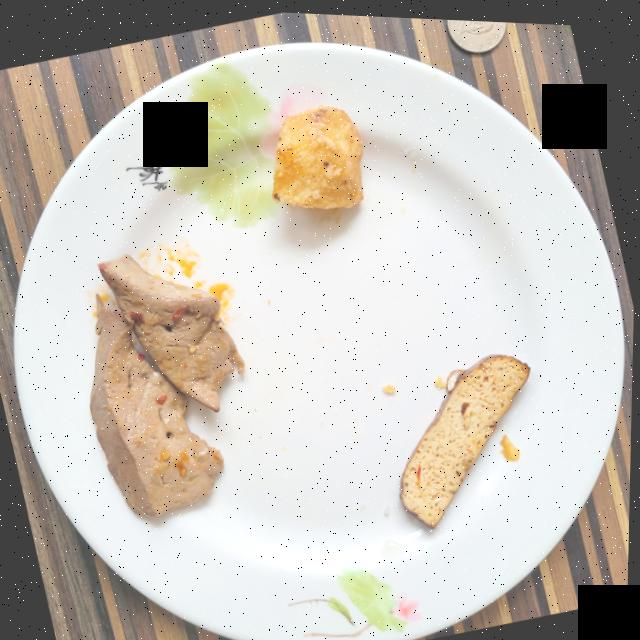coin: (446, 16, 505, 48)
firm tofu: (401, 350, 530, 524)
fried potato: (272, 102, 363, 206)
pig liver: (91, 253, 245, 515)
